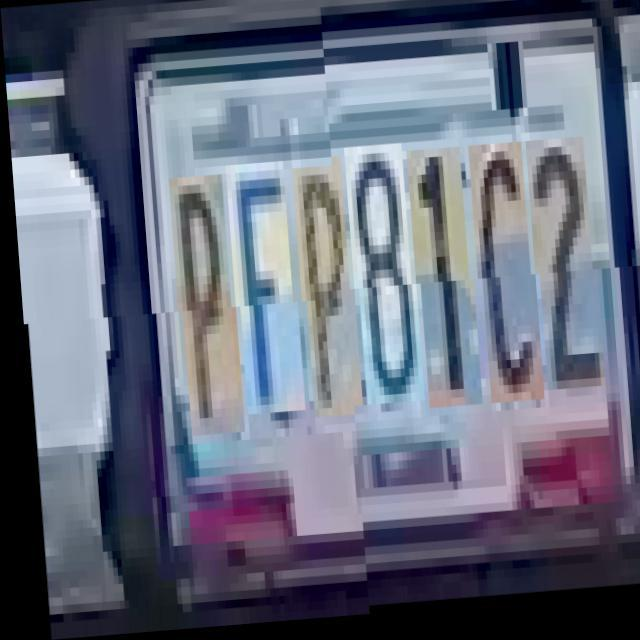1: (408, 162, 476, 424)
2: (528, 154, 600, 408)
8: (346, 158, 418, 418)
C: (470, 158, 538, 420)
F: (227, 165, 299, 418)
P: (170, 178, 238, 438), (294, 170, 357, 423)
